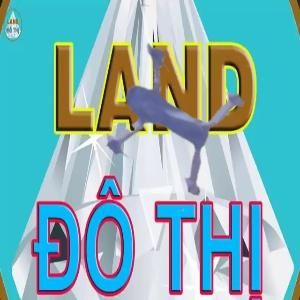drone: (55, 4, 271, 220)
